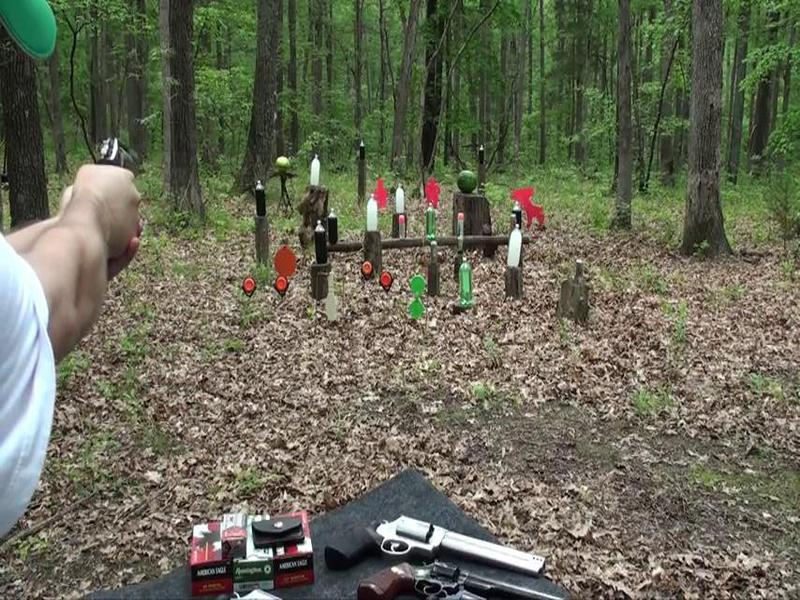Revolver: (83, 124, 153, 192)
